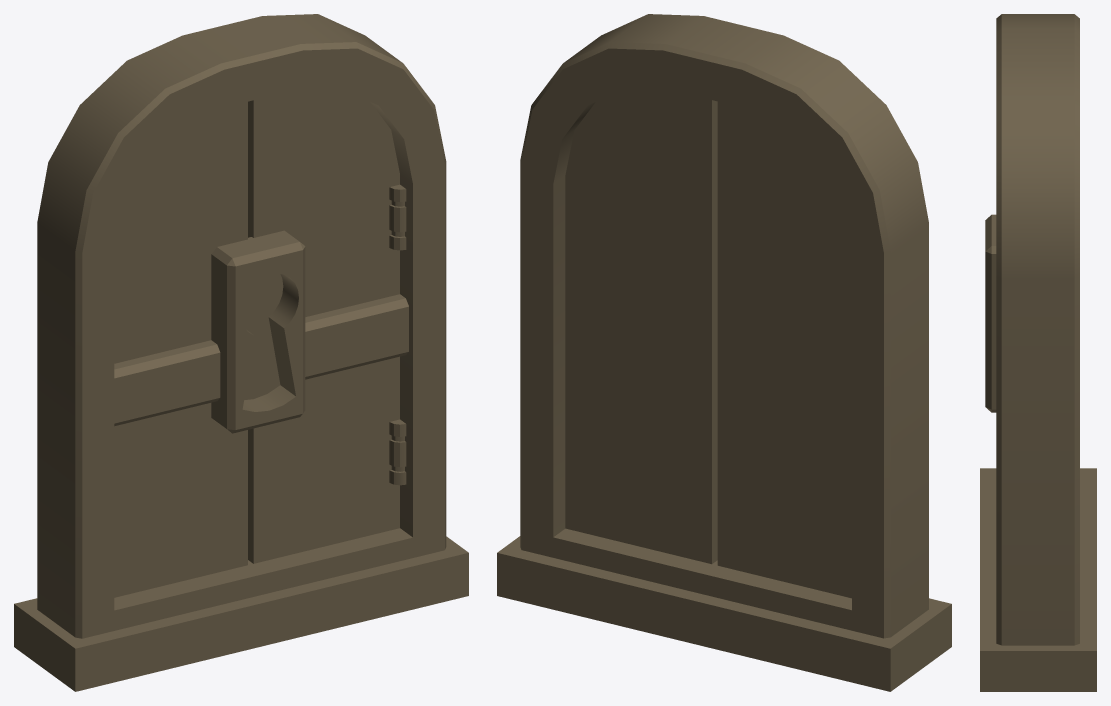
File: door_01.glb
3 views of the same model, side by side, from view 1: azimuth 30°, elevation 25°; view 2: azimuth 150°, elevation 25°; view 3: azimuth 270°, elevation 25° (orthographic). The views are drawn at different scales.
Visible parts, largest first — view 1: door_01; view 2: door_01; view 3: door_01.
Part boxes in pixels (x1,y1,x2,y2): door_01: (14,14,468,691); door_01: (497,14,951,691); door_01: (980,14,1096,691).
Bounding box in the file's own units: 1.06 × 1.5 × 0.2867.
